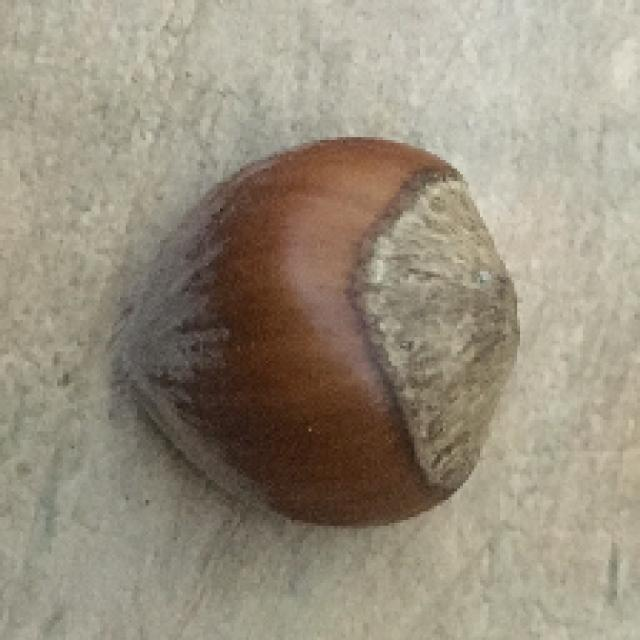QualityHazelnut: (112, 134, 521, 534)
